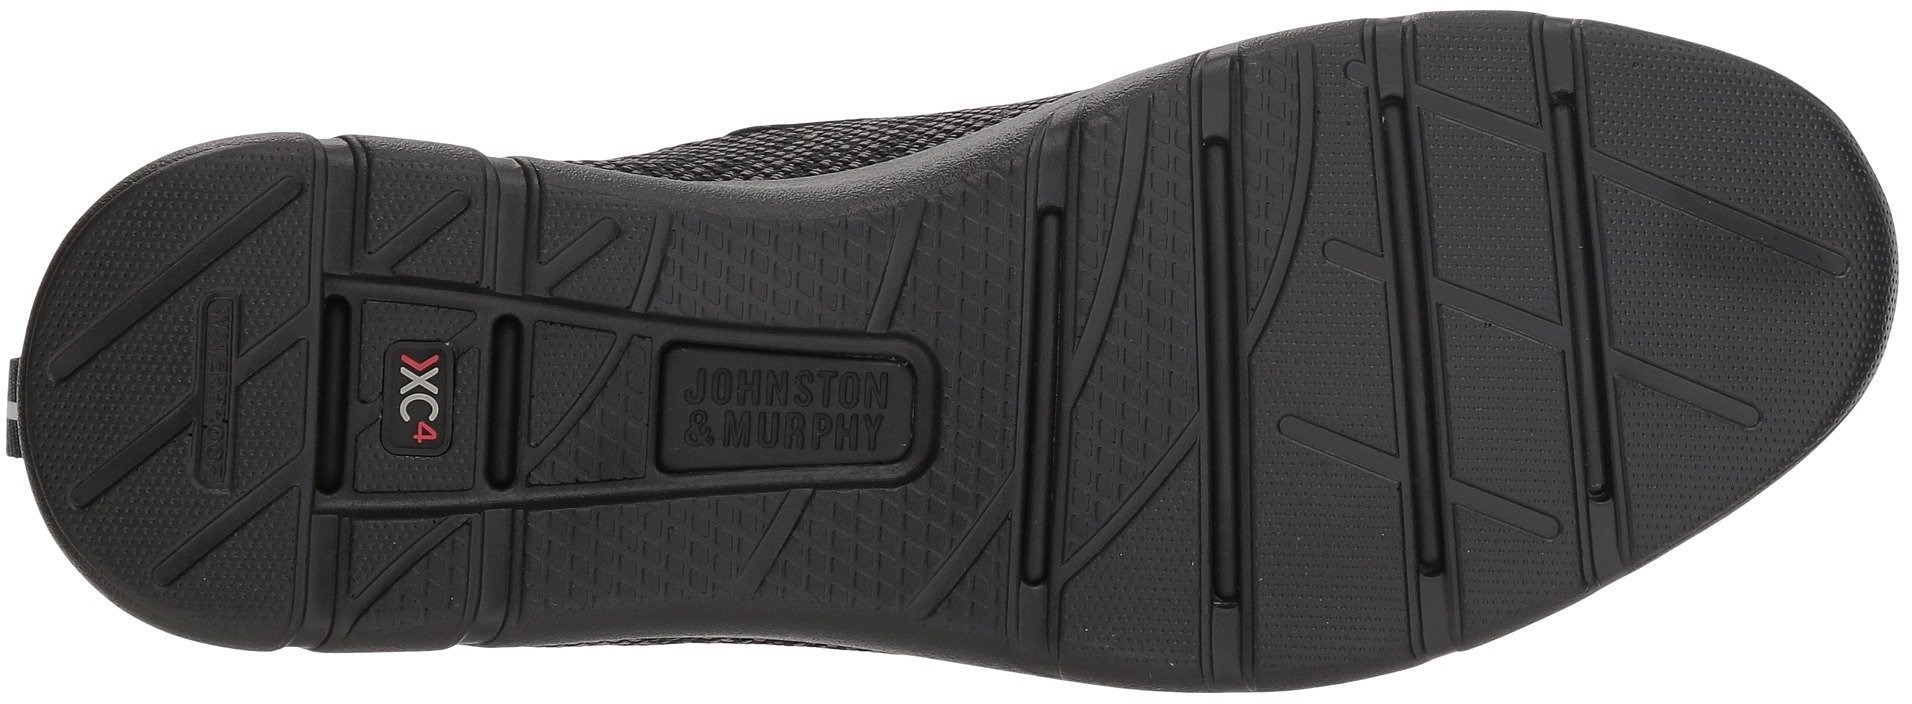other: (1246, 512, 1407, 664), (1423, 153, 1551, 288), (1447, 357, 1577, 480), (1616, 231, 1741, 353), (1277, 305, 1382, 408)
quad: (697, 218, 826, 325), (588, 508, 699, 621), (815, 492, 926, 598), (922, 233, 1026, 327)
text: (793, 351, 895, 469), (682, 361, 777, 458), (352, 353, 458, 438), (185, 314, 265, 382)
